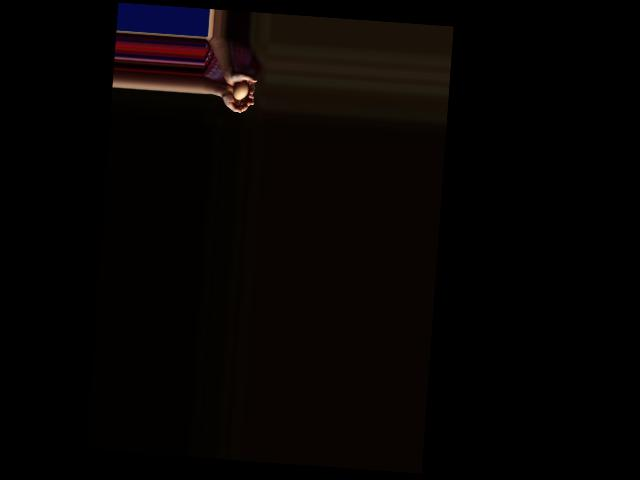egg: (233, 80, 250, 100)
